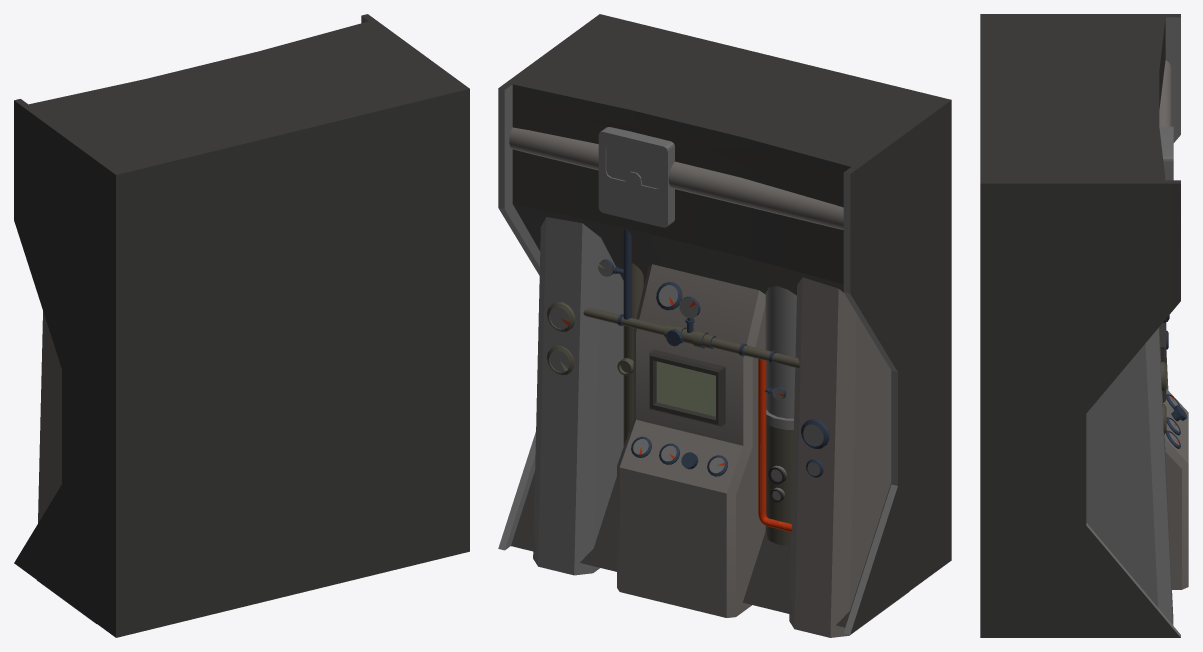
File: Pressure_repair_station.glb
3 renders of one model, left to right at view 1: azimuth 30°, elevation 25°; view 2: azimuth 150°, elevation 25°; view 3: azimuth 270°, elevation 25°, orthographic.
Visible parts, largest first — view 1: pCylinder71; view 2: pCylinder71; view 3: pCylinder71.
Boxes of the visible parts, bbox=[...] form: pCylinder71: bbox=[14, 14, 469, 637]; pCylinder71: bbox=[498, 14, 951, 637]; pCylinder71: bbox=[980, 14, 1188, 637].
Size of the model in its own units: 4 by 5.13 by 2.08.
Materials: 1 (1 with a texture image).
